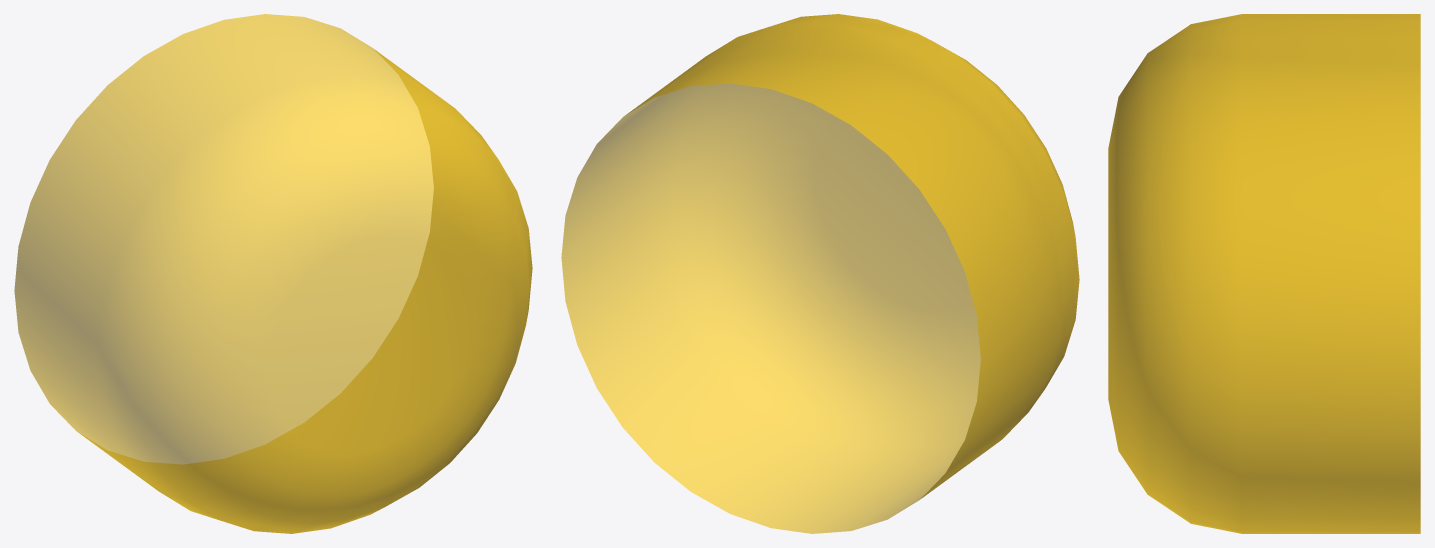
File: ButtonsGlass_MouseYellowTrans_0.dae
The picture shows the model from 3 angles, left to right: view 1: azimuth 30°, elevation 25°; view 2: azimuth 150°, elevation 25°; view 3: azimuth 270°, elevation 25°; orthographic projection. The views are drawn at different scales.
Visible parts, largest first — view 1: ButtonsGlass_MouseYellowTrans_0; view 2: ButtonsGlass_MouseYellowTrans_0; view 3: ButtonsGlass_MouseYellowTrans_0.
Part boxes in pixels (left/top/right/bottom): ButtonsGlass_MouseYellowTrans_0: left=14, top=14, right=532, bottom=533; ButtonsGlass_MouseYellowTrans_0: left=561, top=14, right=1079, bottom=533; ButtonsGlass_MouseYellowTrans_0: left=1108, top=14, right=1420, bottom=533.
Size of the model in its own units: 0.00794 by 0.00794 by 0.00476.
